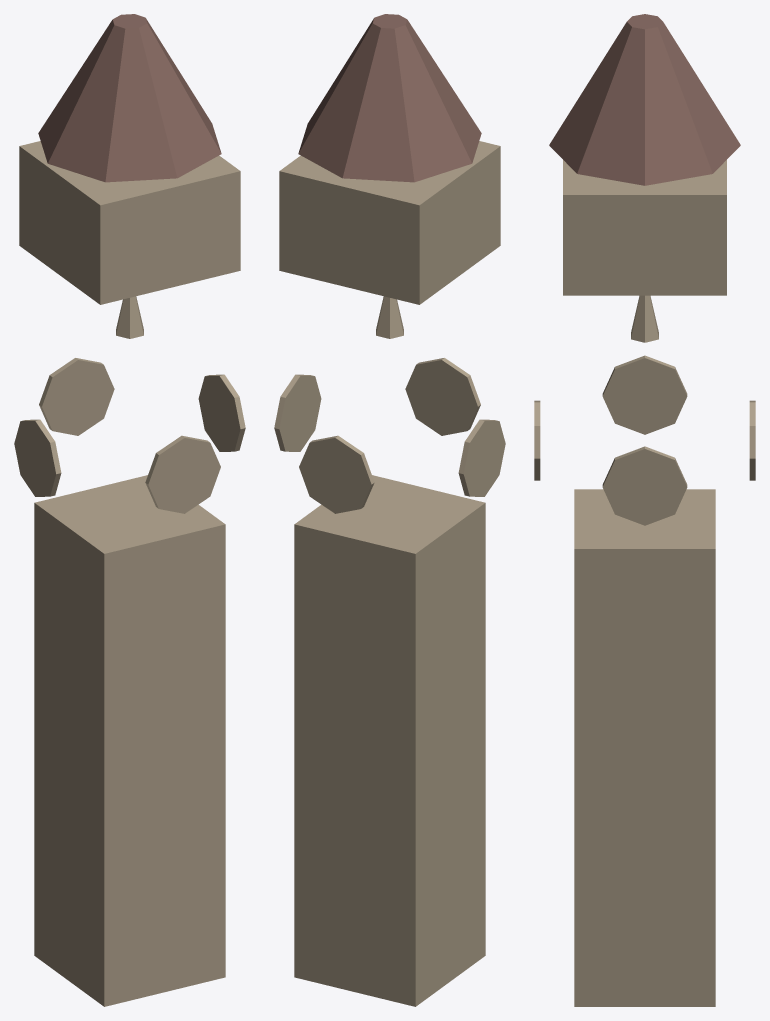
3 renders of one model, left to right at view 1: azimuth 30°, elevation 25°; view 2: azimuth 150°, elevation 25°; view 3: azimuth 270°, elevation 25°, orthographic.
Visible parts, largest first — view 1: part0, part1, part6, part5, part4, part3, part2, part7; view 2: part0, part1, part6, part4, part5, part3, part2, part7; view 3: part0, part6, part1, part3, part2, part7, part4, part5.
Part boxes in pixels (x1,y1,x2,y2): part0: (34,475,225,1006); part1: (19,141,240,304); part6: (38,14,221,182); part5: (145,435,220,513); part4: (39,358,114,435); part3: (14,419,61,496); part2: (198,374,245,451); part7: (116,296,143,338); part0: (294,475,485,1006); part1: (279,141,500,304); part6: (298,14,481,182); part4: (299,435,374,513); part5: (405,358,480,435); part3: (458,419,505,496); part2: (274,374,321,451); part7: (376,296,403,338); part0: (574,489,715,1006); part6: (549,14,740,185); part1: (563,160,726,295); part3: (602,355,687,434); part2: (602,446,687,525); part7: (631,295,658,342); part4: (749,400,755,480); part5: (534,400,540,480).
Bounding box in the file's own units: 2.19 × 10.43 × 2.19.
